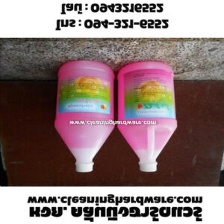cleaning_solution: (53, 57, 117, 172), (114, 59, 178, 173)
